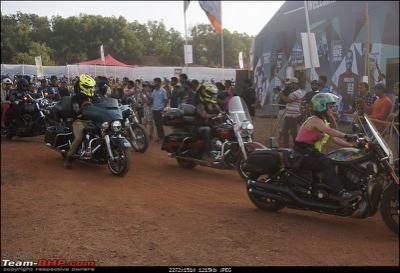With Helmet: (310, 90, 338, 116), (200, 79, 218, 105), (77, 73, 96, 97)
